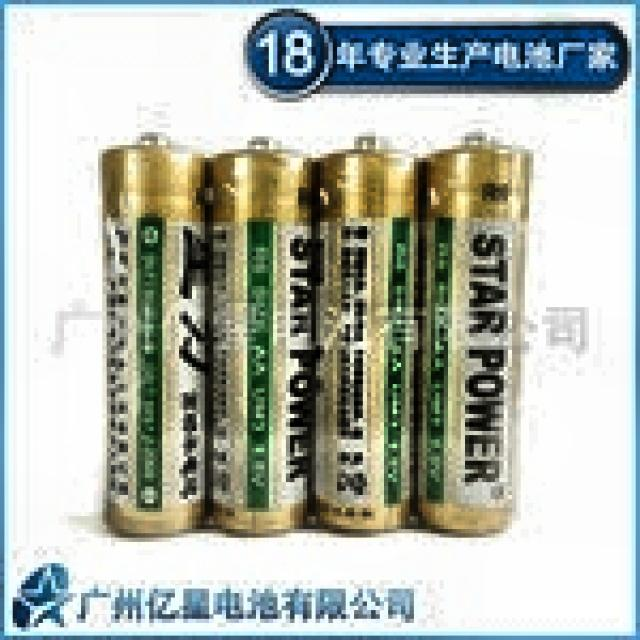Non-Valuable Waste - Batteries: (417, 141, 527, 533), (315, 136, 419, 531), (211, 139, 315, 533), (103, 139, 205, 535)
